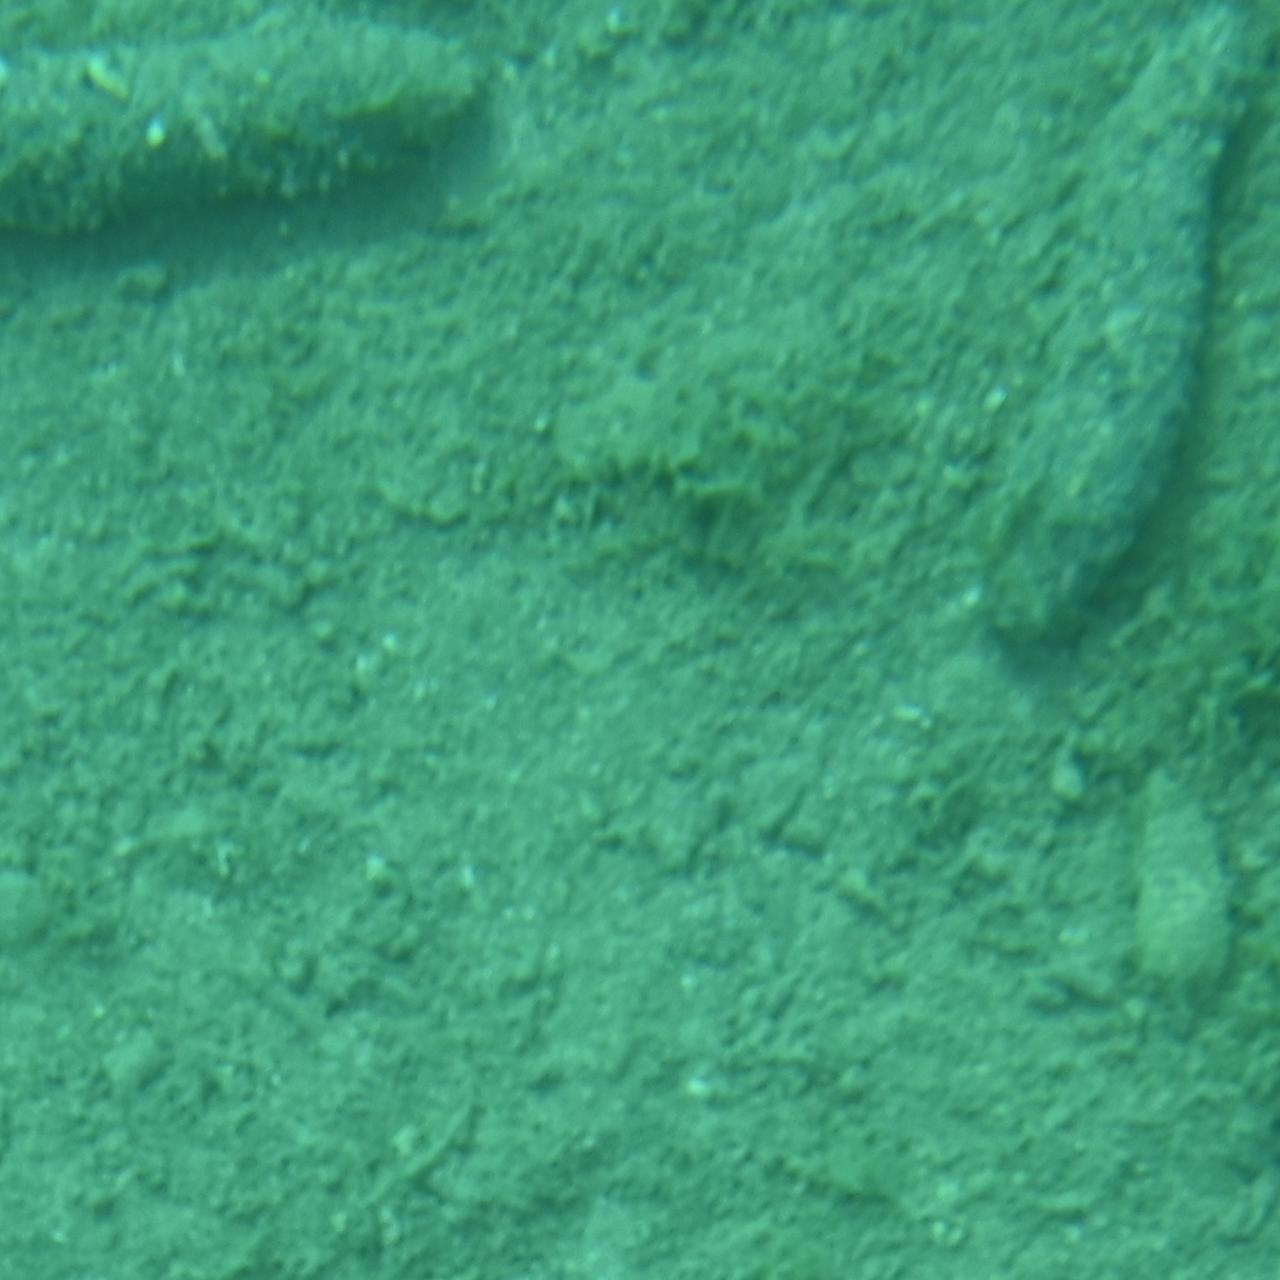Holothuria tubulosa: (961, 1, 1280, 670), (0, 7, 505, 280)
